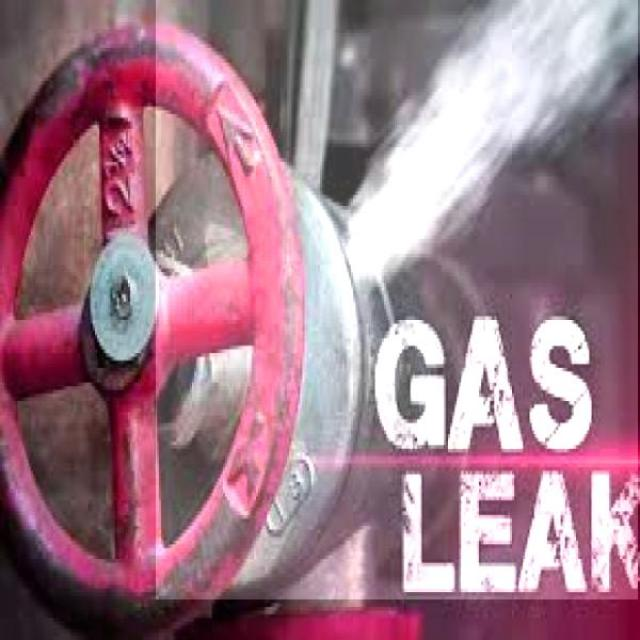corrosion: (294, 7, 608, 304)
